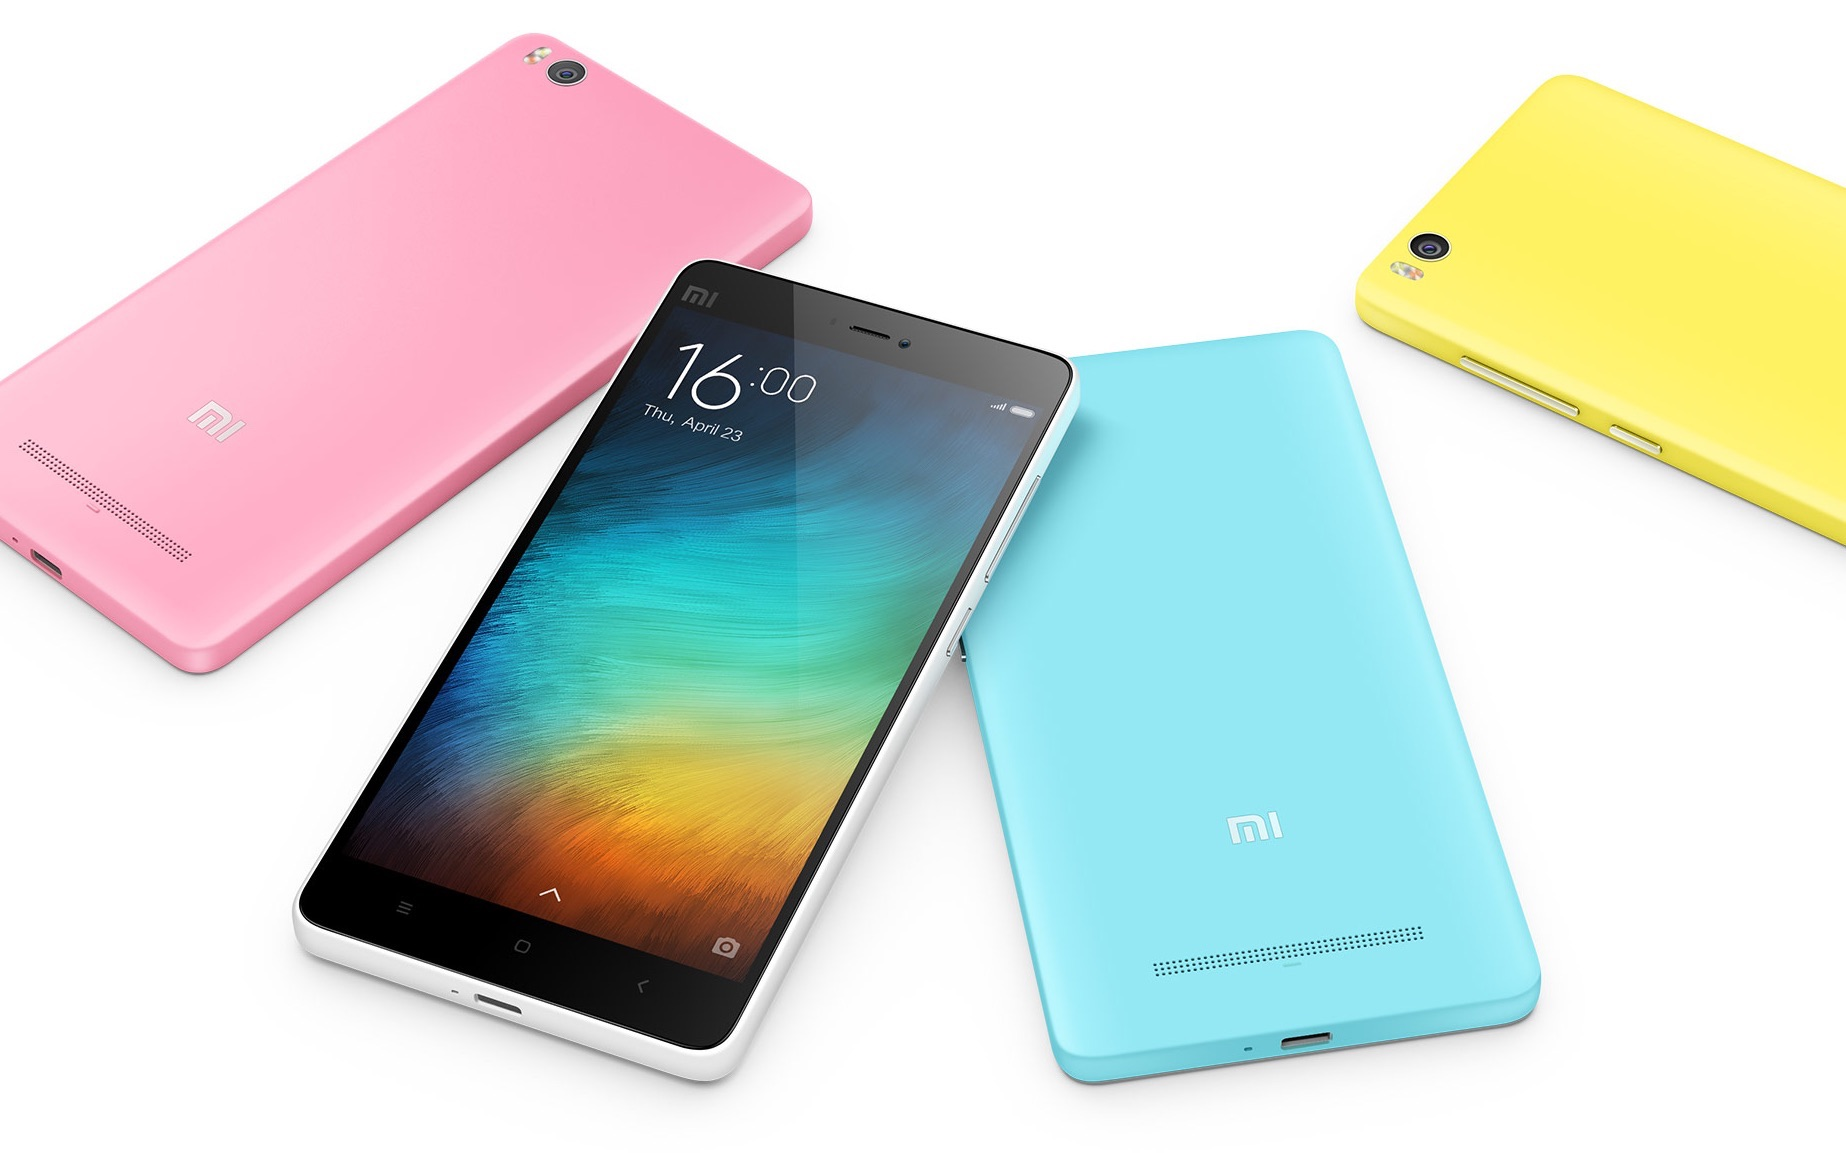smartphone: (294, 256, 1078, 1087), (1, 31, 814, 676), (959, 327, 1542, 1085), (1351, 70, 1846, 547)
